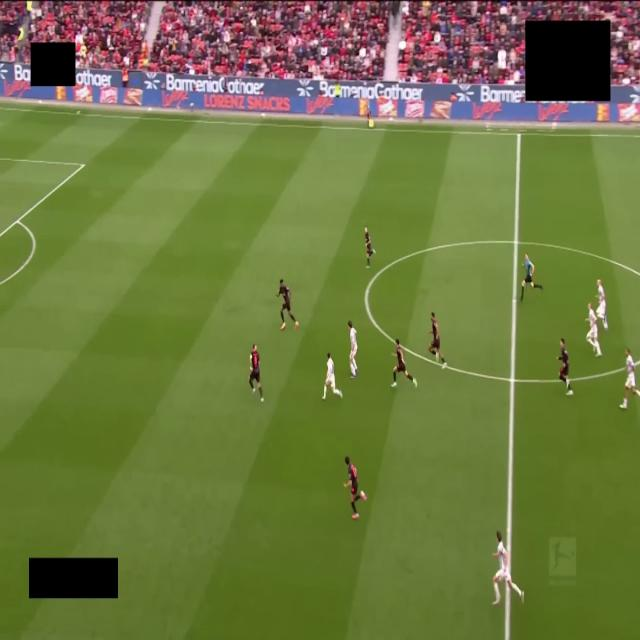player: (493, 531, 523, 605), (345, 456, 366, 519), (392, 339, 417, 387), (620, 349, 639, 409), (277, 280, 298, 330), (429, 312, 447, 368), (557, 338, 573, 396), (323, 353, 342, 399), (249, 344, 263, 401), (586, 304, 601, 357), (596, 280, 607, 330), (348, 321, 357, 378), (365, 227, 375, 268)
referee: (521, 255, 542, 302)
